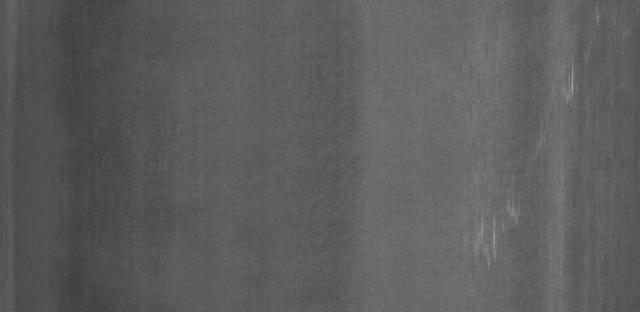silk_spot: (455, 171, 529, 284)
